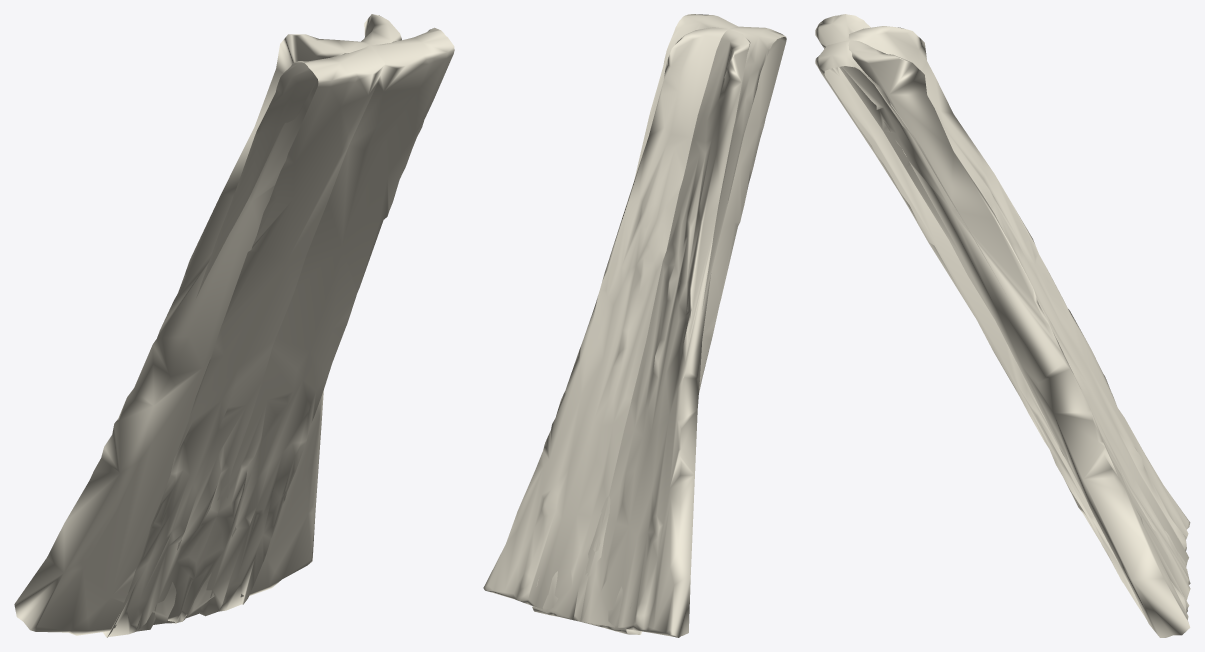
3 renders of one model, left to right at view 1: azimuth 30°, elevation 25°; view 2: azimuth 150°, elevation 25°; view 3: azimuth 270°, elevation 25°, orthographic. The views are drawn at different scales.
Parts seen in each view (by area): view 1: ZA_50c67a7825758b72; view 2: ZA_50c67a7825758b72; view 3: ZA_50c67a7825758b72.
Boxes of the visible parts, box(x1,y1,x2,y2) form: ZA_50c67a7825758b72: box(14, 14, 454, 637); ZA_50c67a7825758b72: box(483, 14, 786, 637); ZA_50c67a7825758b72: box(815, 14, 1190, 637).
Bounding box in the file's own units: 0.0053 × 0.0129 × 0.0078.
